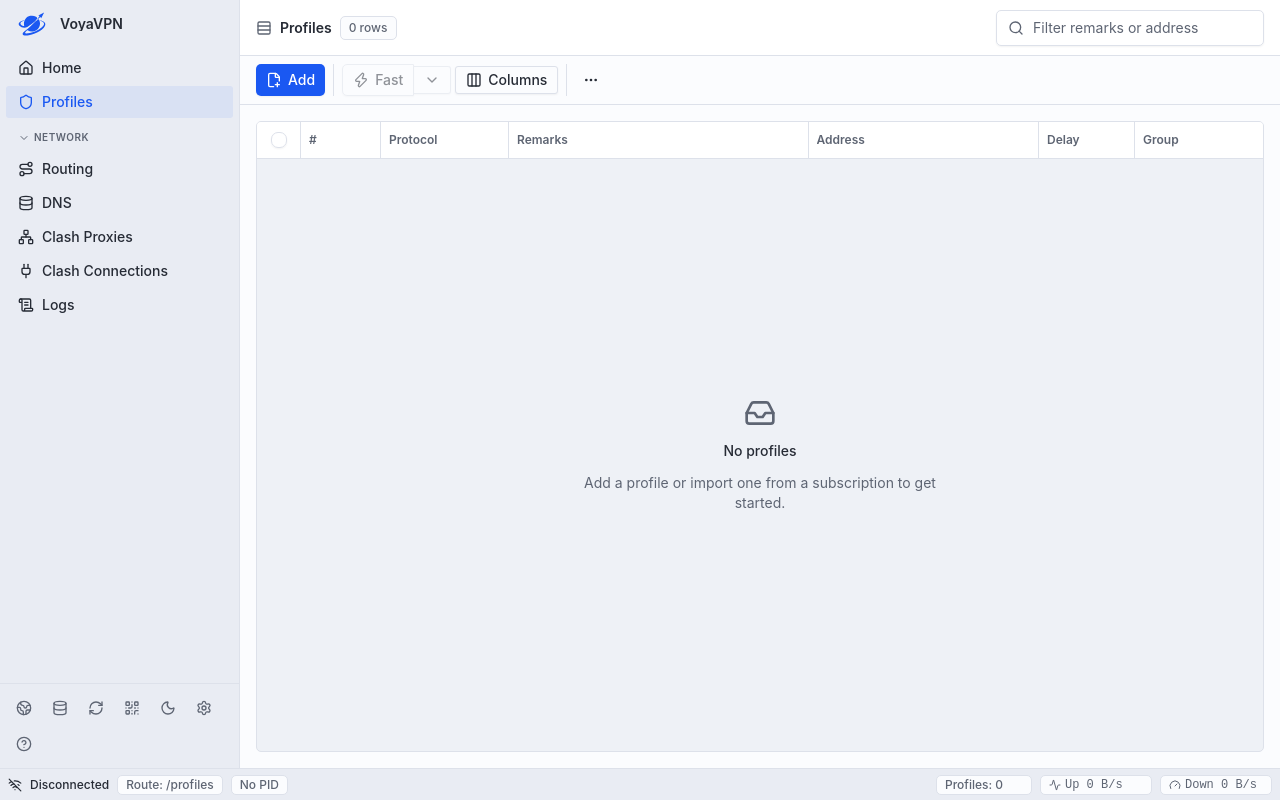
Test: App › switches document direction through the RTL locale
What coordinates should you click on to do the following:
click the button named "Settings"
I would click on:
 (204, 708)
Its box is [188,692,220,724].
(page scrolled)
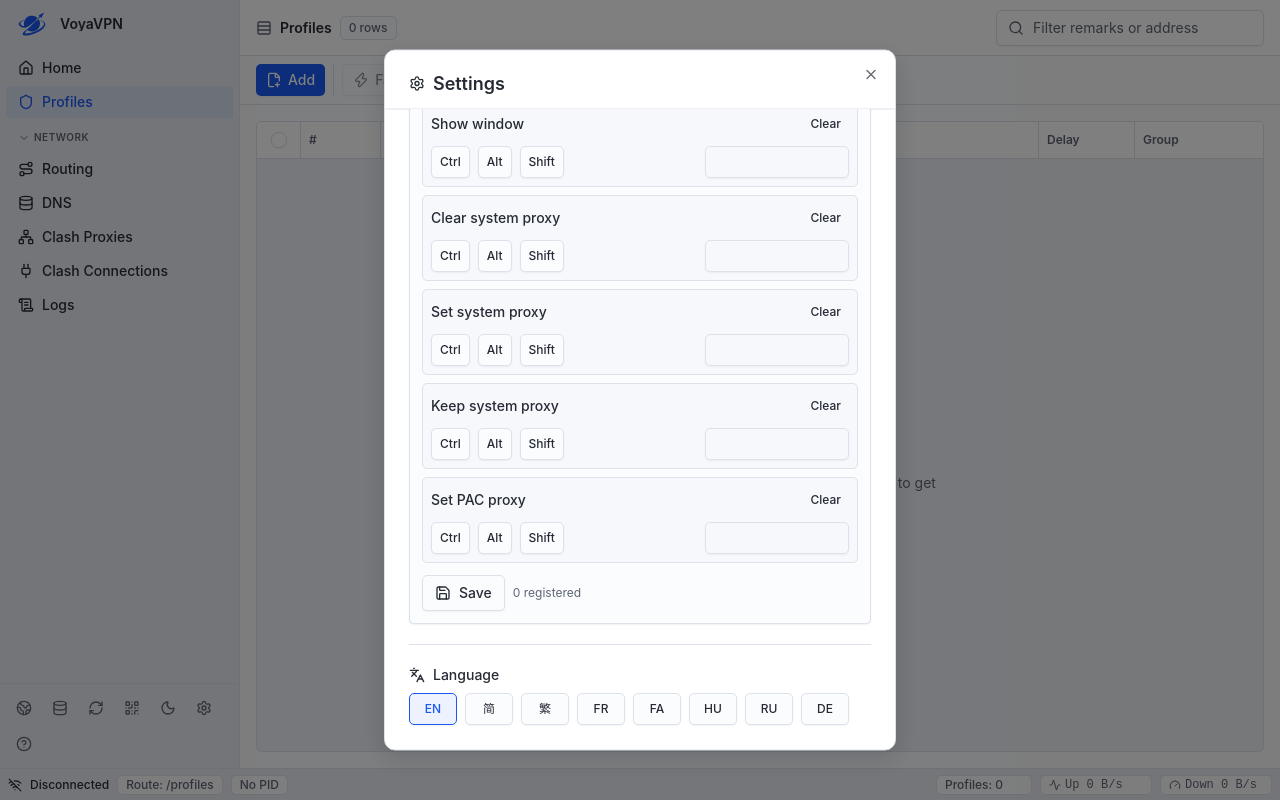
What coordinates should you click on to do the following:
click the button "FA"
I would click on:
 (657, 710)
Its box is [633,694,681,726].
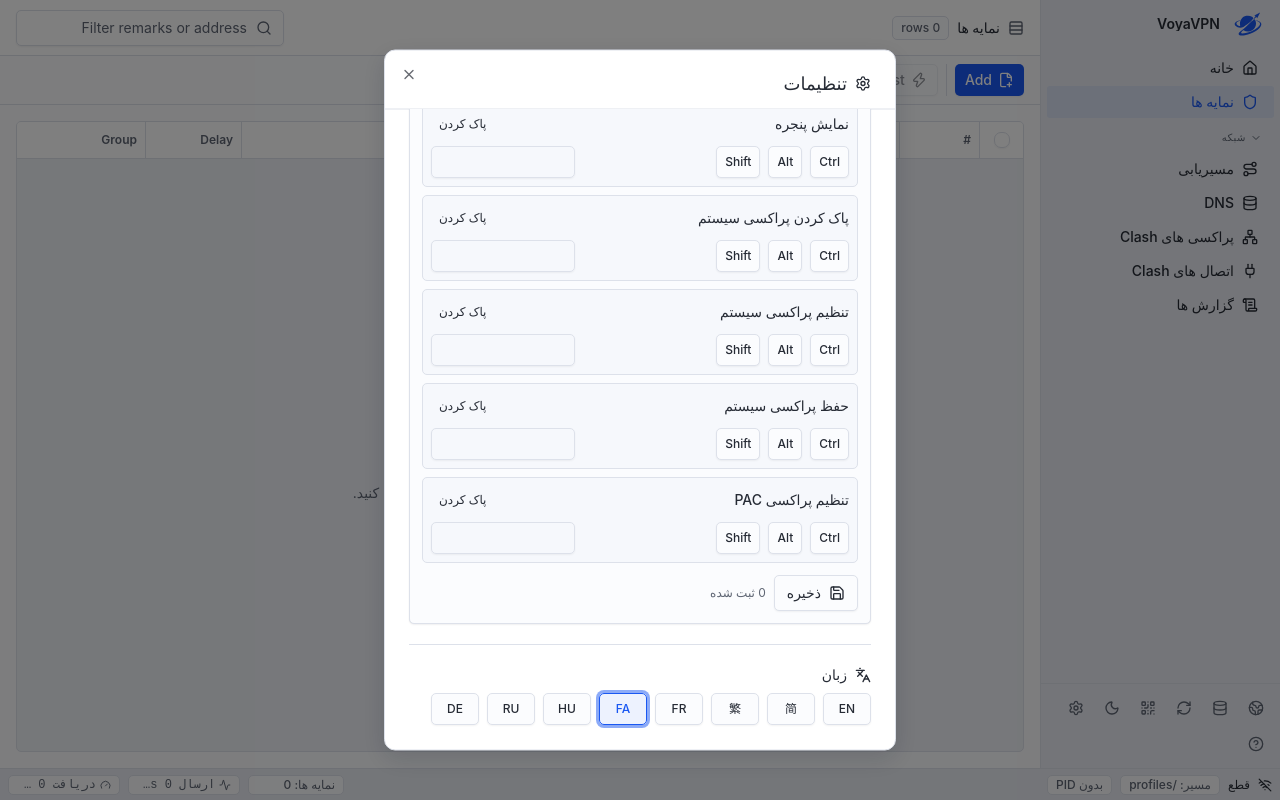
What coordinates should you click on to do the following:
click the button named "Close"
I would click on:
 (409, 74)
Its box is [401,66,417,82].
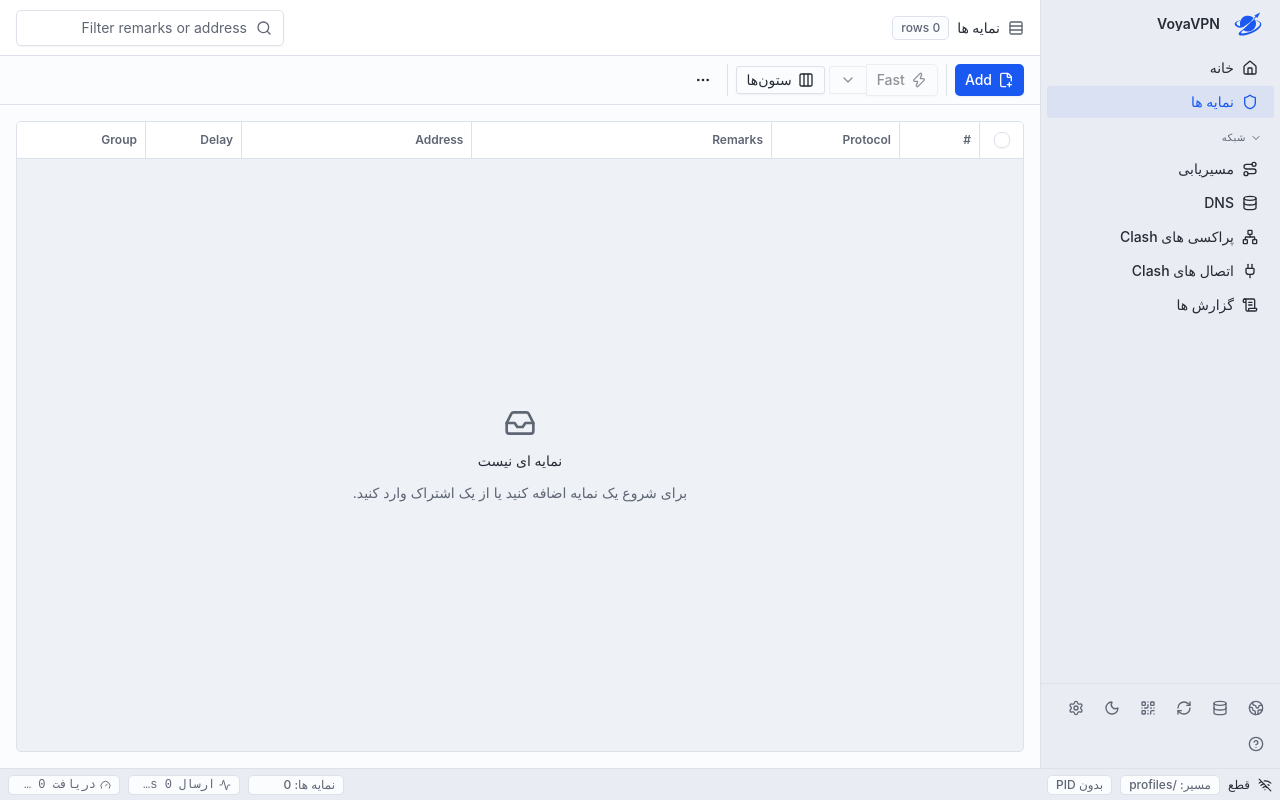
Expected: the tab "نمایه ها" is shown, [1047,86,1274,118]
Expected: the dialog is gone
